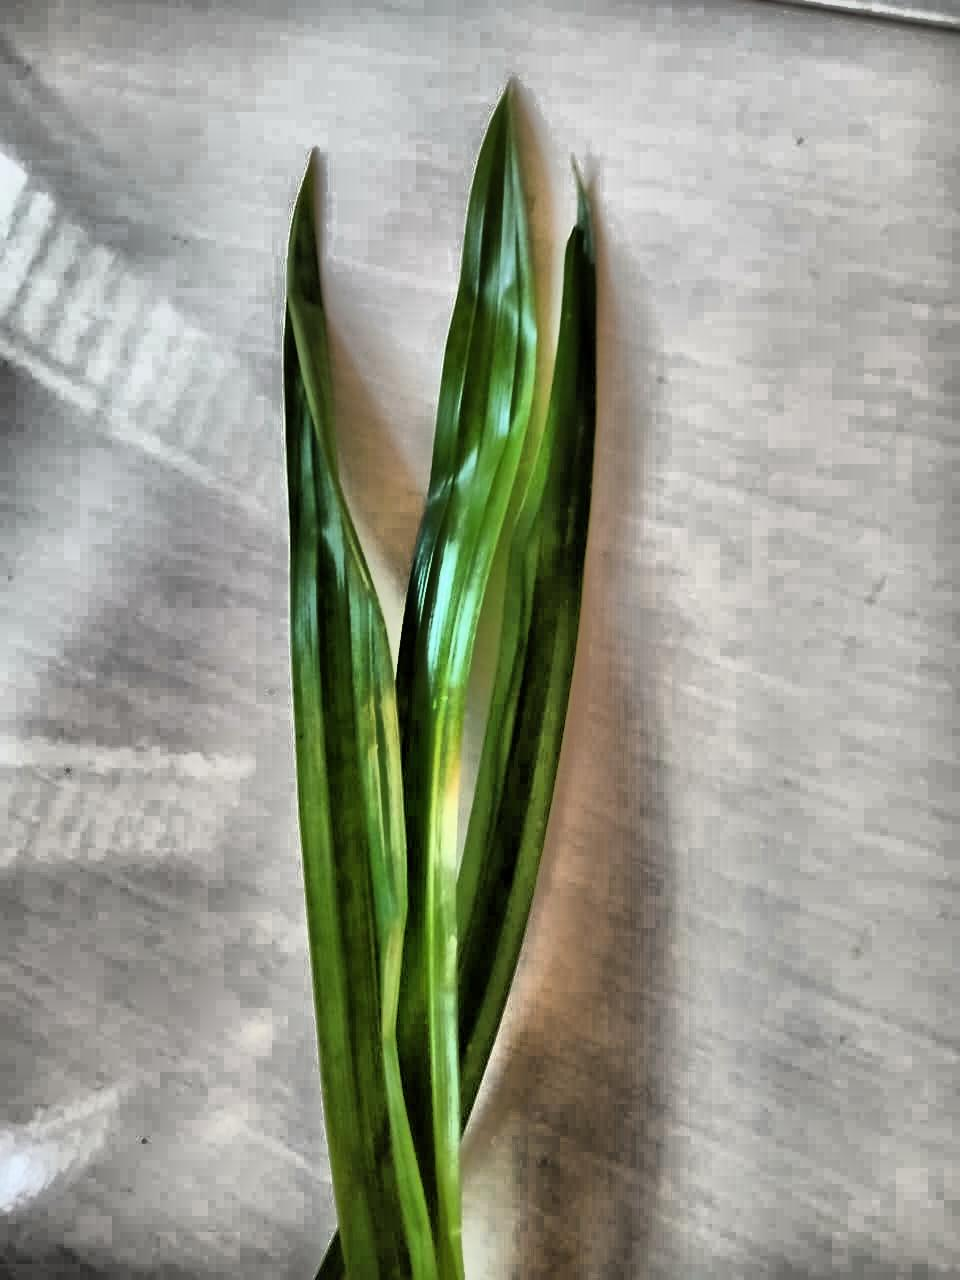daun pandan: (283, 86, 596, 1279)
